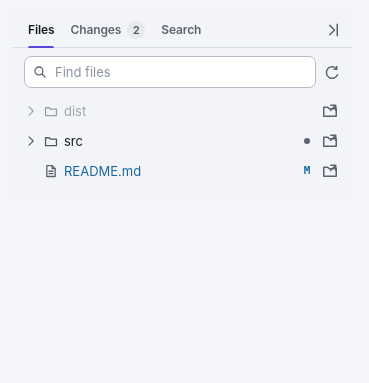
Test: the rail › switches between the two tabs, one at a time
Expected: the element named "Files in this worktree" is shown, [12, 48, 352, 194]
Click the tab with aria-label "Changes, 2" at (108, 30), box [66, 12, 149, 47]
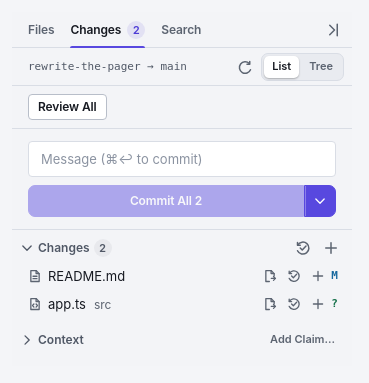
Now the element named "Changes in this worktree" is shown
Click the tab "Files" at (41, 30), box [24, 12, 58, 47]
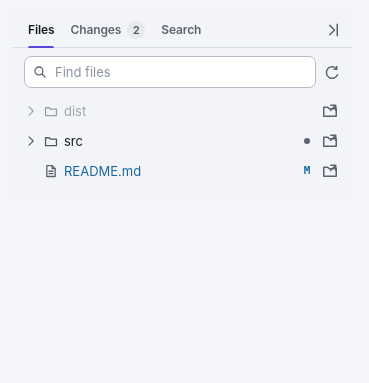
Now the element named "Files in this worktree" is shown, box [12, 48, 352, 194]
